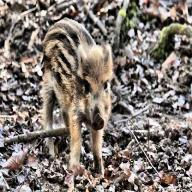boar: (32, 14, 118, 176)
